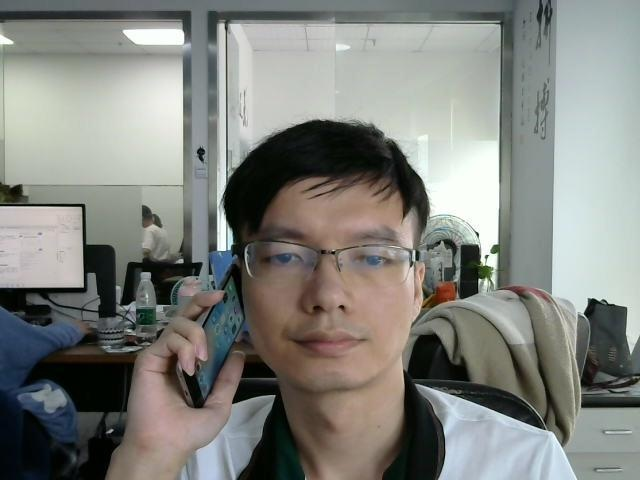hand: (144, 293, 241, 440)
